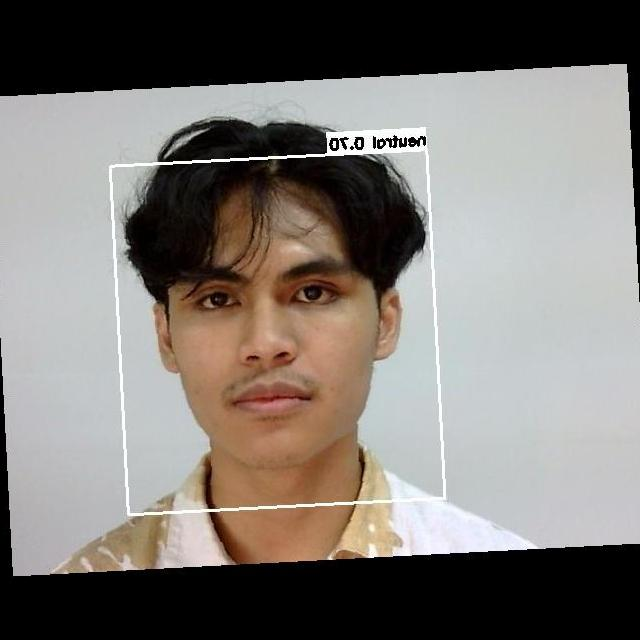Natural: (170, 222, 379, 425)
